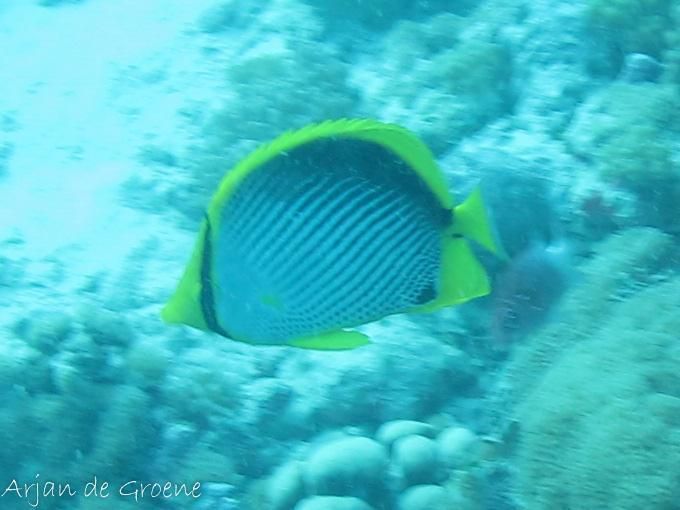Fish: (153, 122, 528, 378)
